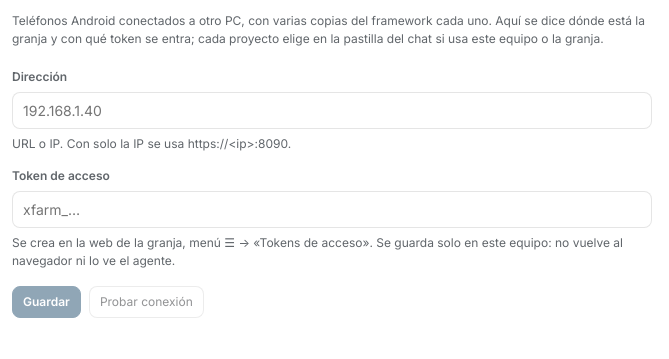
AjustesDeGranja › la negativa del servidor se pinta tal cual
The image size is (669, 359).
Type "http://x" into the field labelled "Dirección" at point(332, 110), box [12,92,652,129]
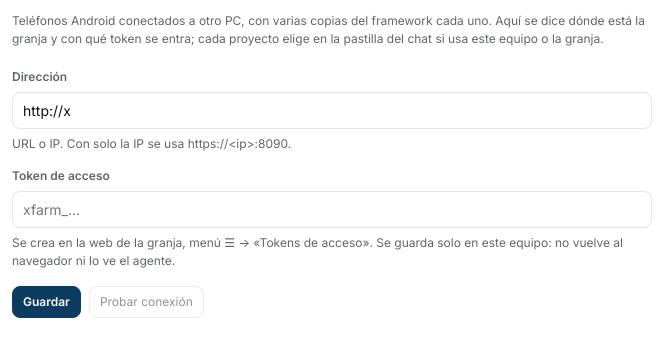
Click the button "Guardar" at point(46, 302), box [12,286,81,318]
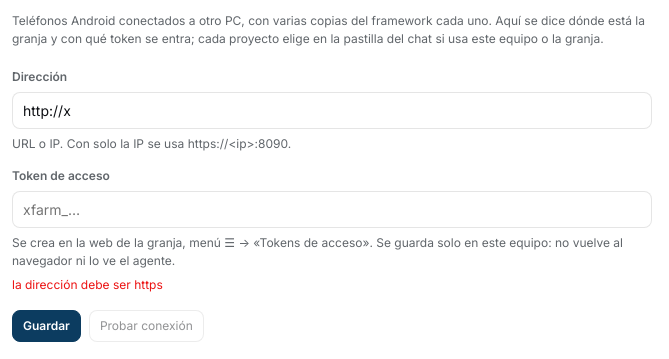
Result: the message reads "la dirección debe ser https" at [12,277,163,292]
